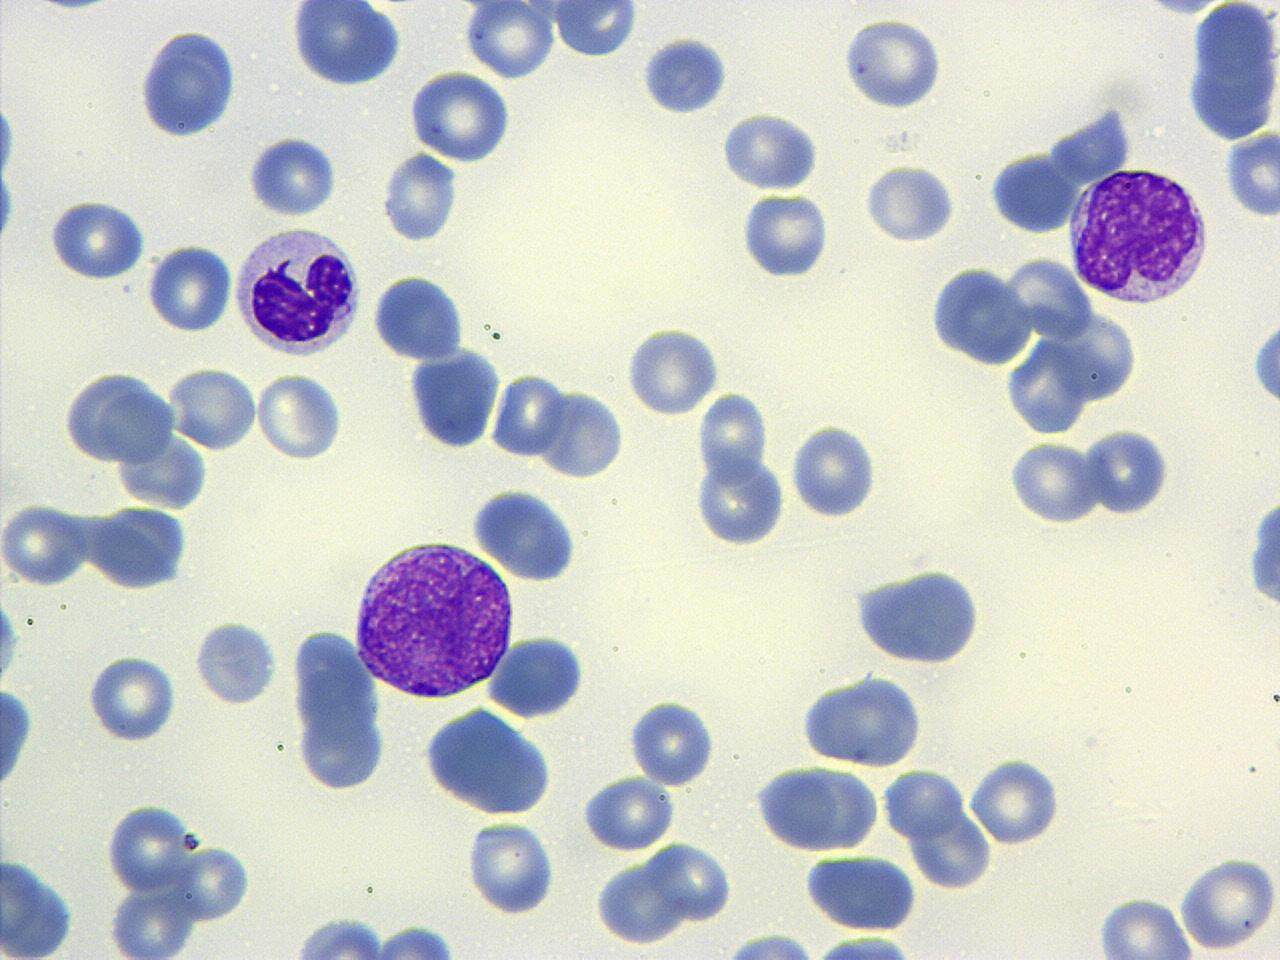Platelets: (405, 69, 516, 163), (786, 420, 884, 520), (464, 818, 560, 916), (622, 324, 722, 418), (966, 758, 1067, 850), (717, 108, 826, 192), (736, 190, 835, 280), (190, 614, 282, 708), (46, 198, 148, 282), (626, 696, 720, 787), (861, 158, 958, 246), (246, 134, 339, 220), (640, 31, 731, 118), (380, 150, 464, 244), (1222, 127, 1280, 220), (1245, 488, 1279, 618), (0, 680, 38, 790), (1251, 319, 1280, 408), (0, 595, 21, 682), (0, 103, 18, 178), (0, 170, 17, 242)
RBC: (838, 11, 950, 113), (1175, 852, 1279, 954), (288, 0, 404, 90), (408, 67, 513, 165), (624, 320, 722, 420), (692, 450, 790, 548), (465, 818, 560, 917), (87, 503, 192, 591), (83, 649, 180, 743), (966, 756, 1064, 848), (45, 196, 149, 281), (104, 798, 194, 895), (626, 695, 720, 787), (254, 370, 346, 462), (537, 384, 626, 479), (860, 160, 960, 244), (1007, 436, 1099, 527), (168, 362, 260, 453), (1085, 423, 1175, 516), (246, 130, 339, 220), (145, 241, 232, 335), (1, 500, 89, 588), (462, 0, 556, 81), (578, 774, 675, 852), (652, 838, 736, 924), (696, 388, 770, 483), (490, 368, 564, 462), (175, 840, 259, 922), (909, 810, 993, 892), (1091, 893, 1195, 959), (882, 765, 965, 843), (1, 678, 42, 812), (551, 0, 640, 61)
WBC: (0, 0, 622, 472), (10, 558, 556, 960), (7, 0, 809, 243), (960, 260, 1137, 434), (347, 535, 519, 702), (94, 793, 264, 958), (1063, 163, 1215, 310), (230, 220, 366, 362), (286, 622, 392, 796), (848, 556, 990, 672), (420, 703, 559, 819), (1183, 1, 1280, 141), (796, 668, 928, 770), (135, 24, 244, 141), (928, 261, 1037, 372), (60, 362, 175, 466), (750, 764, 882, 854), (468, 483, 582, 584), (405, 343, 508, 452), (838, 13, 948, 115), (286, 1, 408, 90), (406, 66, 514, 165), (800, 850, 921, 934), (591, 851, 689, 950), (270, 914, 484, 959), (370, 268, 470, 364), (738, 182, 836, 279), (88, 505, 195, 593), (483, 634, 590, 722), (0, 848, 83, 958), (987, 143, 1081, 238), (626, 696, 720, 788), (860, 161, 962, 244), (191, 614, 280, 709), (583, 776, 680, 852), (1244, 474, 1280, 630), (696, 928, 838, 960), (0, 678, 37, 800), (798, 928, 934, 959), (1250, 306, 1280, 416)
